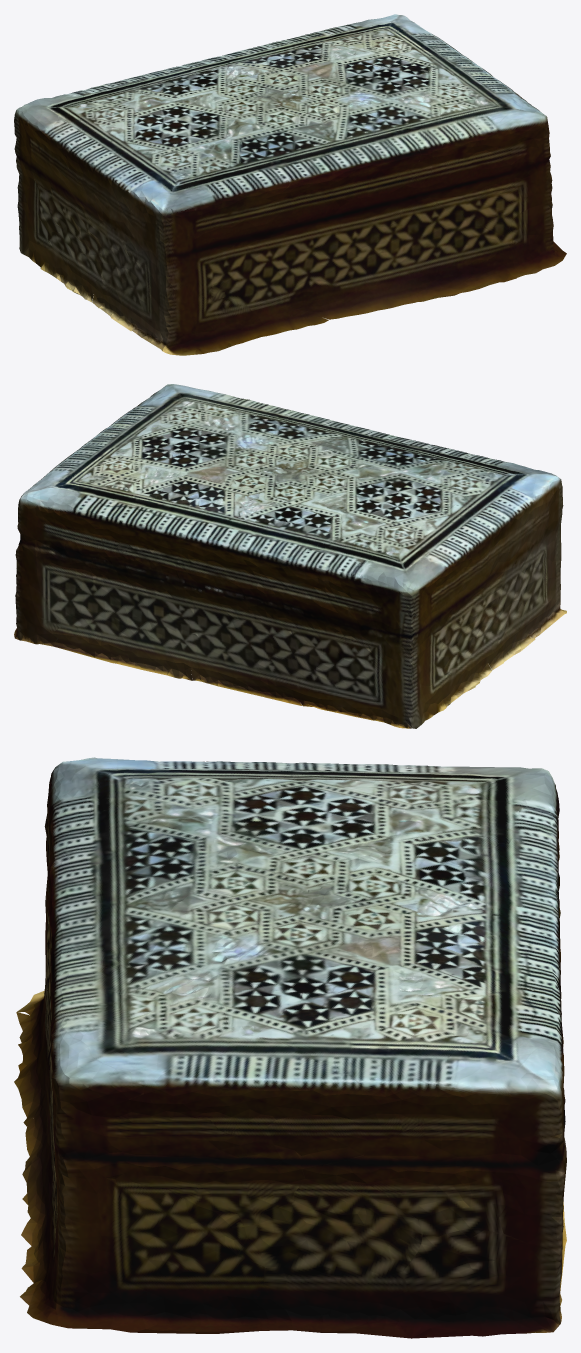
File: caIxa.gltf
The picture shows the model from 3 angles, top to bottom: view 1: azimuth 30°, elevation 25°; view 2: azimuth 150°, elevation 25°; view 3: azimuth 270°, elevation 25°; orthographic projection. The views are drawn at different scales.
Parts seen in each view (by area): view 1: model_Caixa_yannick_20250207_224516700; view 2: model_Caixa_yannick_20250207_224516700; view 3: model_Caixa_yannick_20250207_224516700.
Part boxes in pixels (bbox=[...]): model_Caixa_yannick_20250207_224516700: bbox=[14, 14, 566, 355]; model_Caixa_yannick_20250207_224516700: bbox=[14, 384, 566, 728]; model_Caixa_yannick_20250207_224516700: bbox=[14, 757, 566, 1338].
Bounding box in the file's own units: 1.03 × 0.3817 × 0.706.
Materials: 1 (1 with a texture image).
